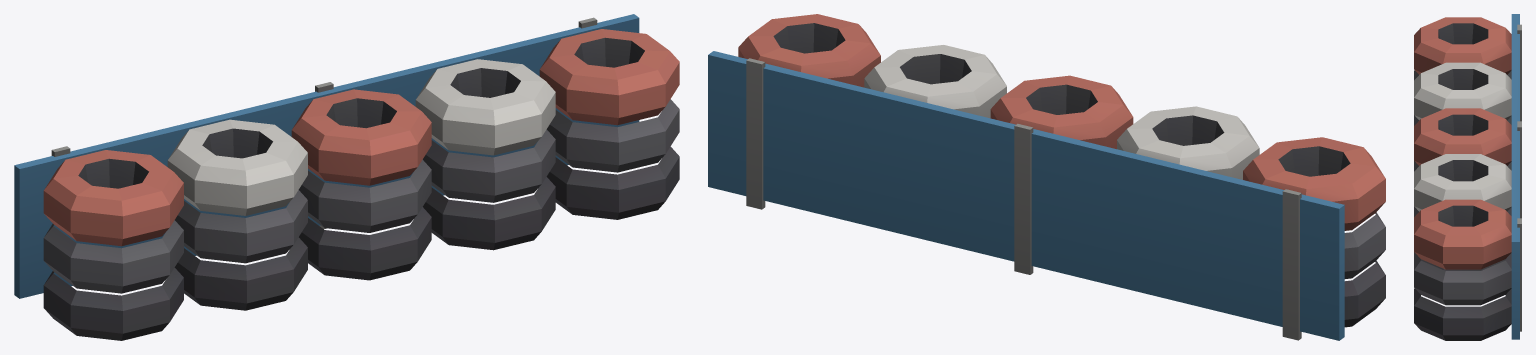
Rendered from tyrewall.glb.
3 renders of one model, left to right at view 1: azimuth 30°, elevation 25°; view 2: azimuth 150°, elevation 25°; view 3: azimuth 270°, elevation 25°, orthographic. The views are drawn at different scales.
Bounding box in the file's own units: 4 × 0.88 × 0.7999.
